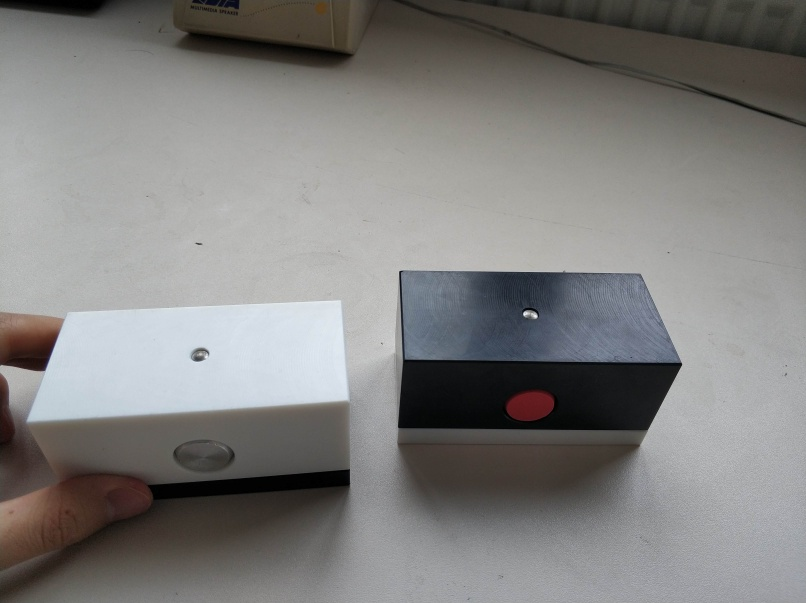black+white+silver: (25, 298, 351, 505)
white+black+red: (393, 268, 683, 448)
